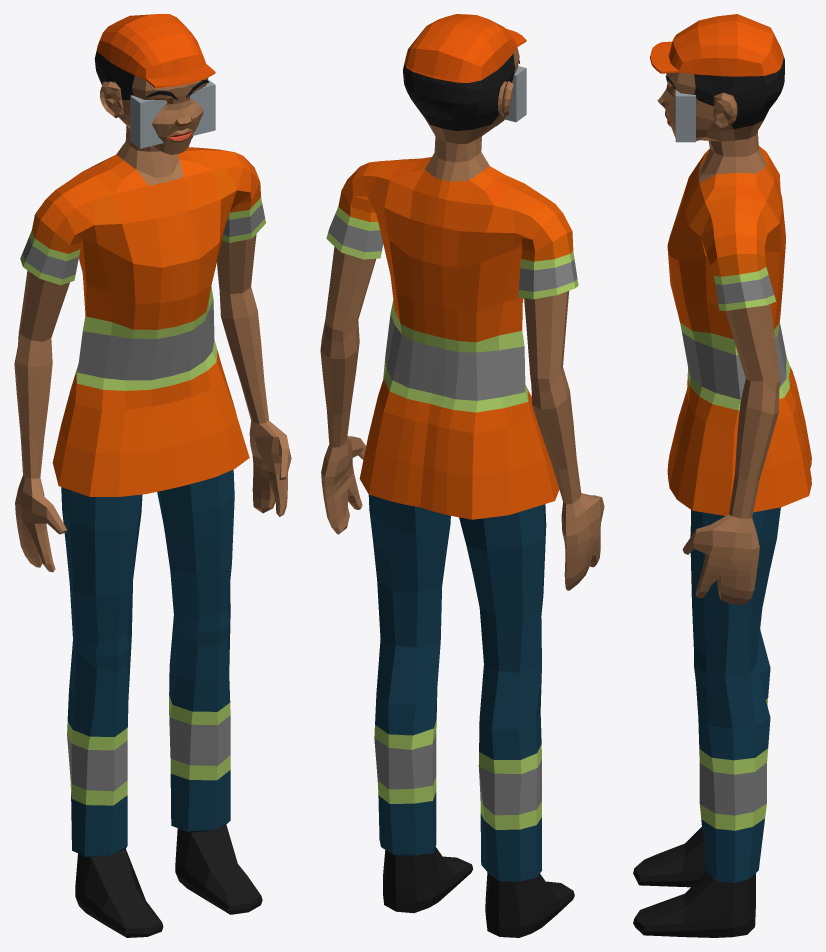
File: Garbageman_Stand_Mask.fbx
The picture shows the model from 3 angles, left to right: view 1: azimuth 30°, elevation 25°; view 2: azimuth 150°, elevation 25°; view 3: azimuth 270°, elevation 25°; orthographic projection. The views are drawn at different scales.
Parts seen in each view (by area): view 1: Garbageman_Stand_Mask; view 2: Garbageman_Stand_Mask; view 3: Garbageman_Stand_Mask.
Boxes of the visible parts, box(x1,y1,x2,y2) form: Garbageman_Stand_Mask: box(14, 14, 291, 937); Garbageman_Stand_Mask: box(320, 14, 604, 937); Garbageman_Stand_Mask: box(633, 14, 811, 937).
Size of the model in its own units: 0.3234 by 1.05 by 0.1935.
